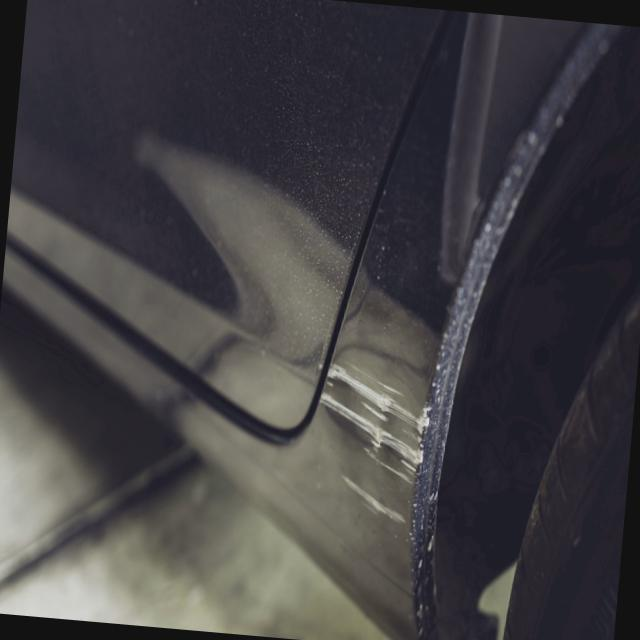Rayure: (306, 349, 438, 532)
